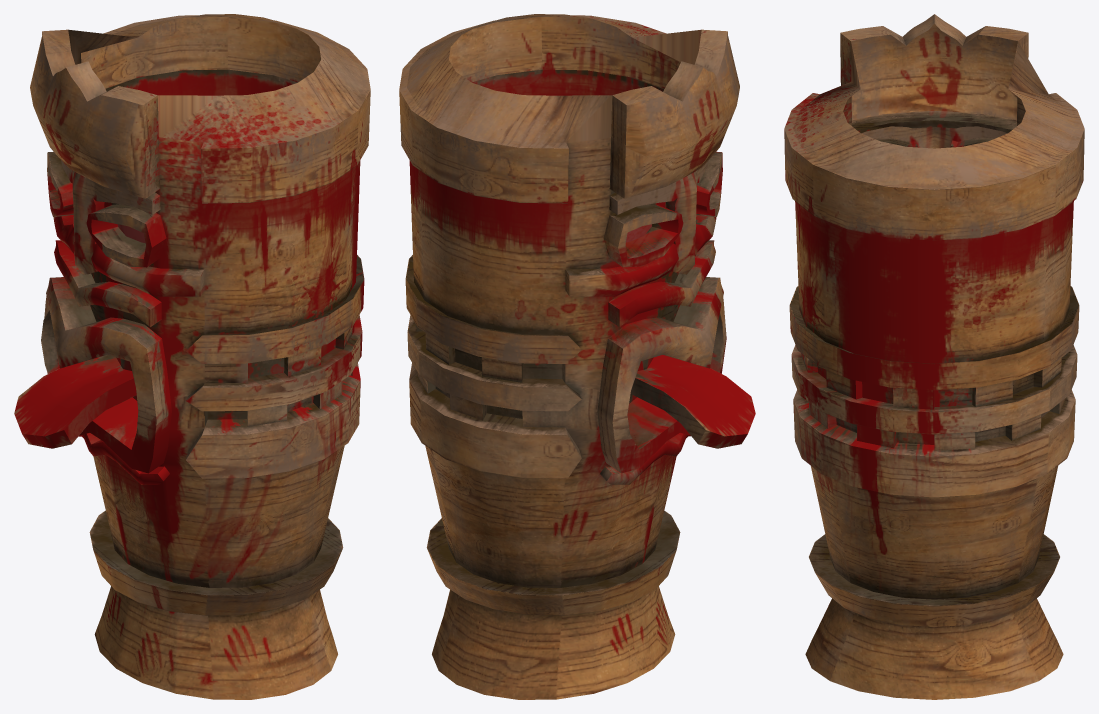
The model's file is ChaosZooTotemR.fbx.
3 renders of one model, left to right at view 1: azimuth 30°, elevation 25°; view 2: azimuth 150°, elevation 25°; view 3: azimuth 270°, elevation 25°, orthographic. The views are drawn at different scales.
Parts seen in each view (by area): view 1: pCylinder14; view 2: pCylinder14; view 3: pCylinder14.
Boxes of the visible parts, bbox=[...] form: pCylinder14: bbox=[14, 14, 370, 699]; pCylinder14: bbox=[399, 14, 755, 699]; pCylinder14: bbox=[784, 14, 1084, 699].
Size of the model in its own units: 4.38 by 7.86 by 3.74.
